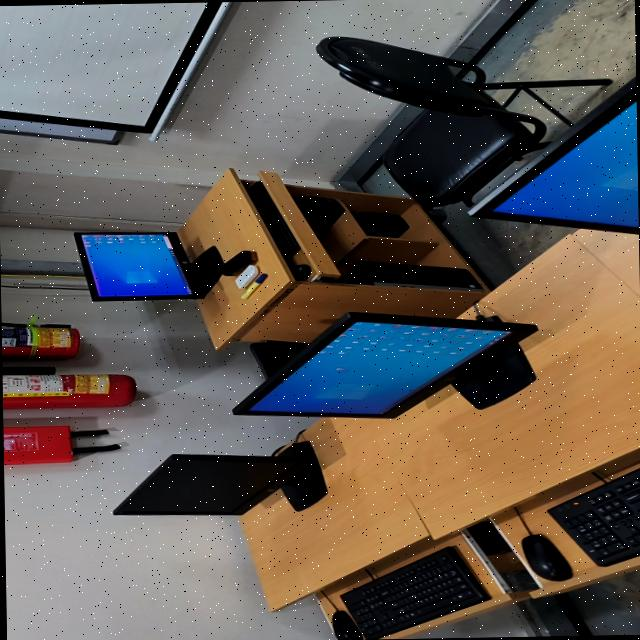Chair: (315, 37, 609, 206), (248, 340, 307, 378)
Cpu: (339, 262, 481, 290)
Fire Extinguisher: (1, 374, 135, 409), (0, 324, 78, 358)
Keyboard: (340, 546, 487, 639), (546, 467, 640, 565), (246, 181, 298, 258)
Monitor: (232, 312, 536, 418), (467, 75, 639, 235), (113, 441, 325, 515), (72, 232, 222, 300)
Mouse: (521, 534, 570, 581), (330, 610, 361, 640)
